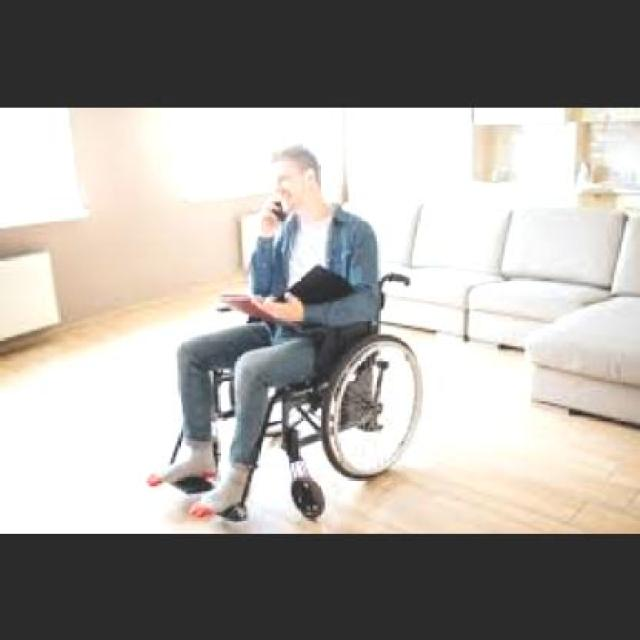wheelchairs: (149, 260, 428, 534)
